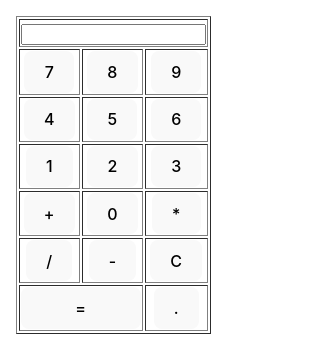
it: Calculator Component › check if multiplication if working
This screenshot has width=320, height=351.
Click the button "5" at (112, 119), box [87, 99, 137, 140]
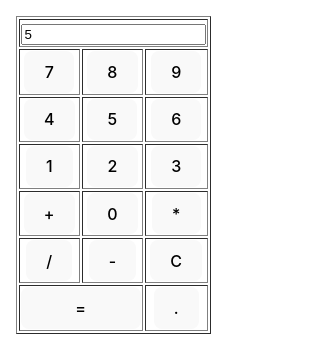
Click the button "*" at (176, 214), box [152, 193, 200, 234]
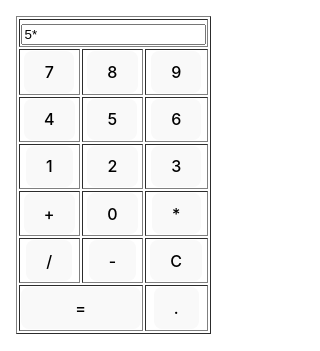
Click the button "3" at (176, 166), box [151, 146, 201, 187]
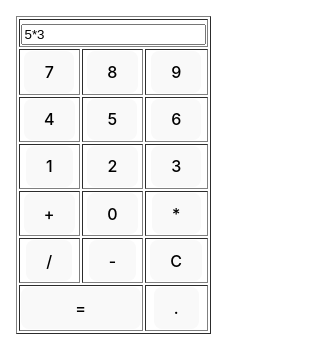
Click the button "=" at (81, 308), box [20, 287, 141, 329]
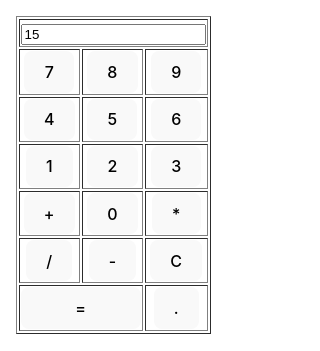
Expected: the field holds "15", [20, 24, 206, 45]
